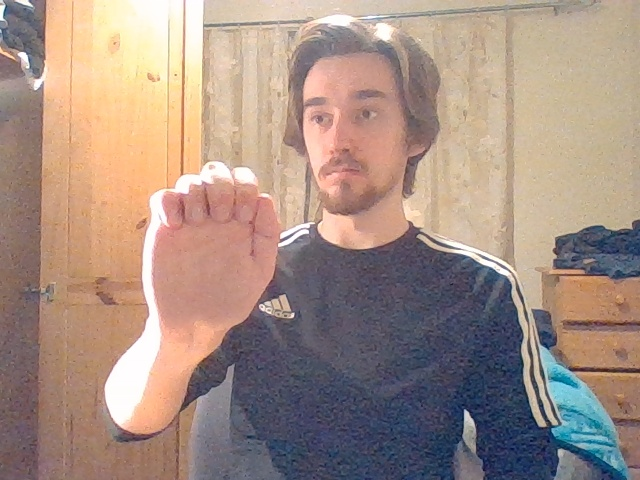your: (143, 162, 279, 314)
